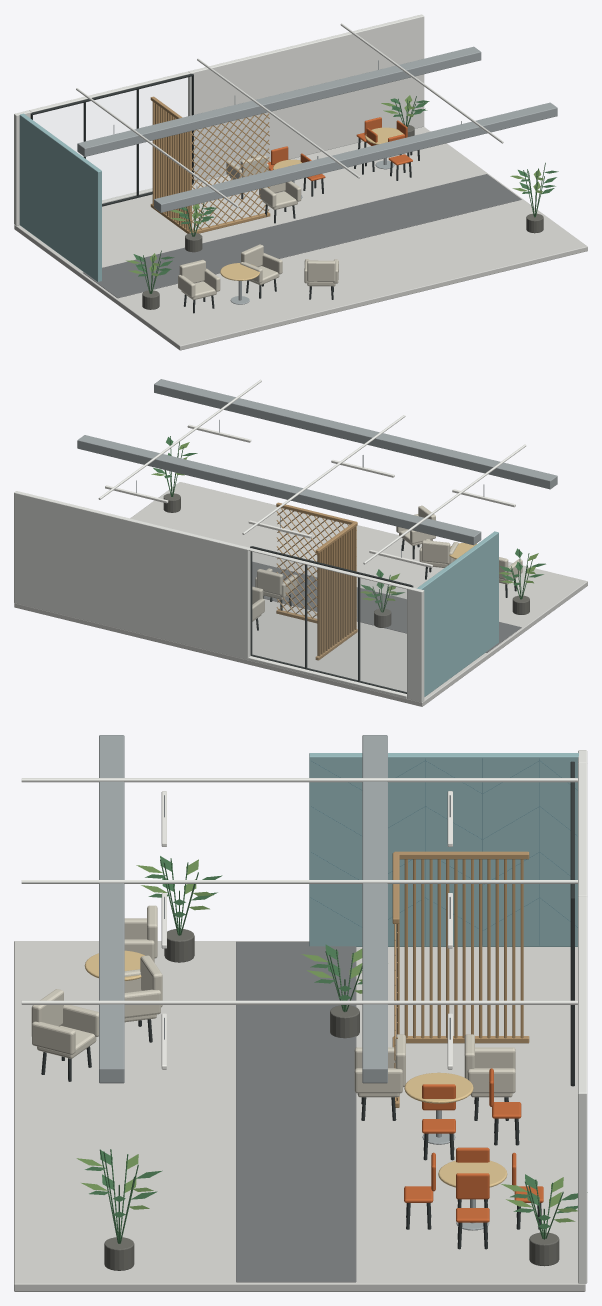
Rendered from con-methodology-interior-4575e4b0580f.glb.
The picture shows the model from 3 angles, top to bottom: view 1: azimuth 30°, elevation 25°; view 2: azimuth 150°, elevation 25°; view 3: azimuth 270°, elevation 25°; orthographic projection. The views are drawn at different scales.
Parts seen in each view (by area): view 1: con-methodology; view 2: con-methodology; view 3: con-methodology.
Part boxes in pixels (x1,y1,x2,y2): con-methodology: (14, 14, 587, 350); con-methodology: (14, 379, 587, 706); con-methodology: (14, 735, 587, 1291).
Bounding box in the file's own units: 10.84 × 3.25 × 7.63.
